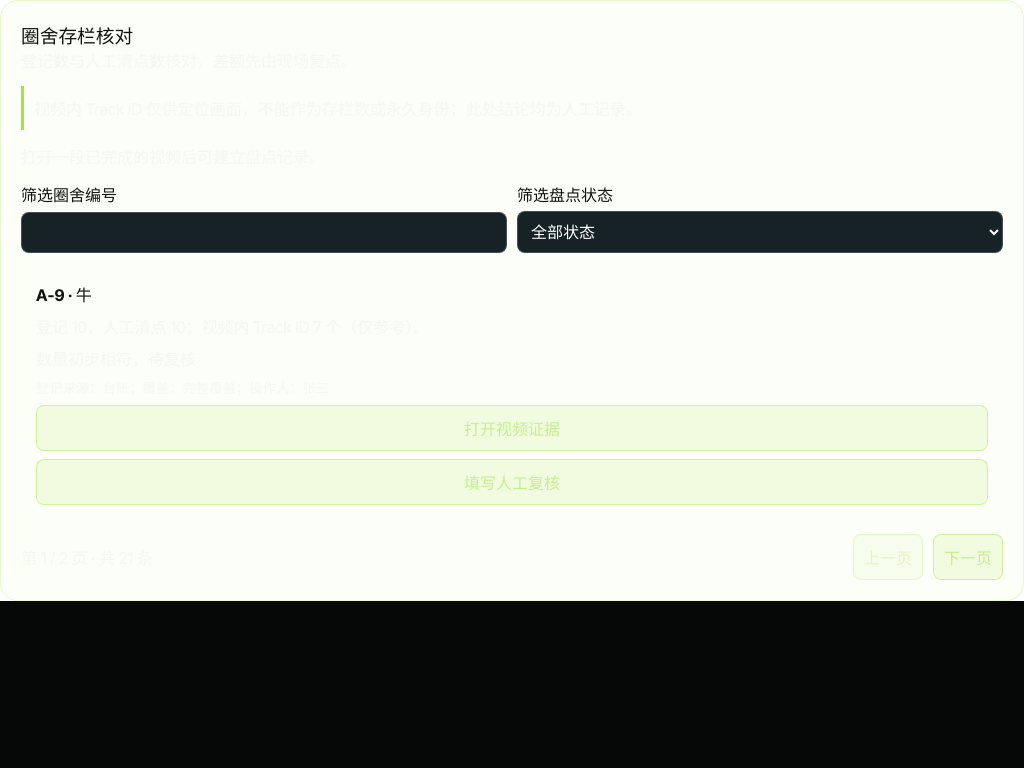
Test: pages global history and resets to the first page when filters change
The image size is (1024, 768).
Later steps or results of the test are not shown.
Click the button "下一页" at (968, 557), box [933,534,1003,580]
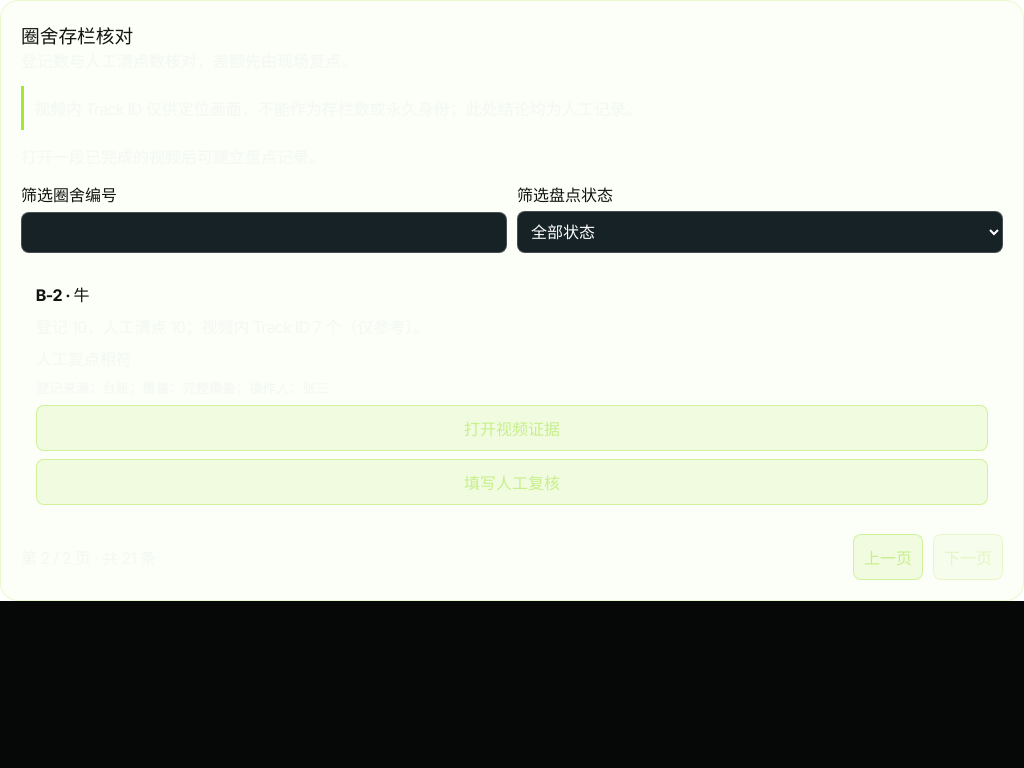
Expected: the heading "B-2 · 牛" is shown, [36,285,90,305]
